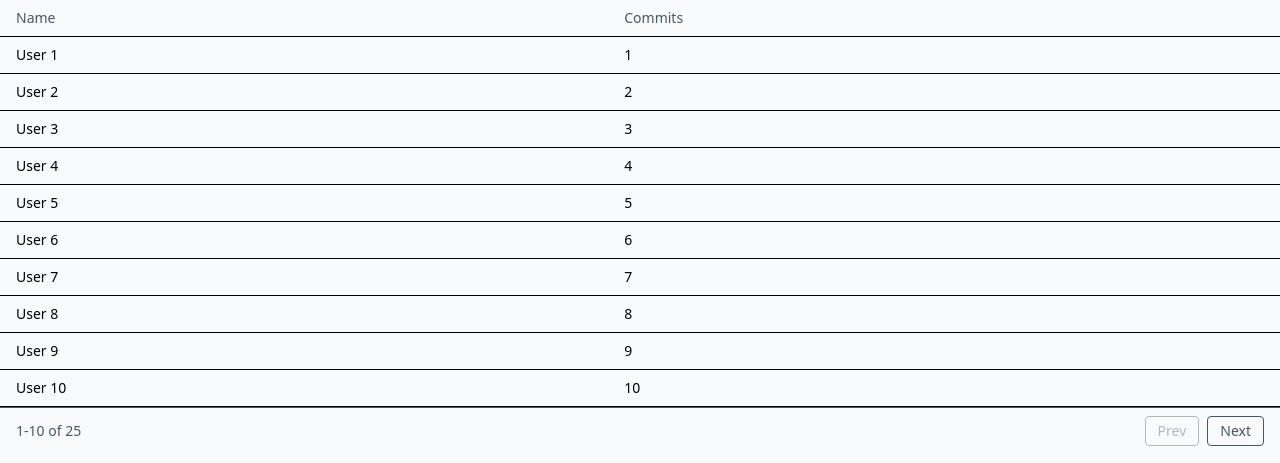
it: DataTable › pagination › navigates to previous page
Click the button "Next": (1236, 431) [1207,416,1264,446]
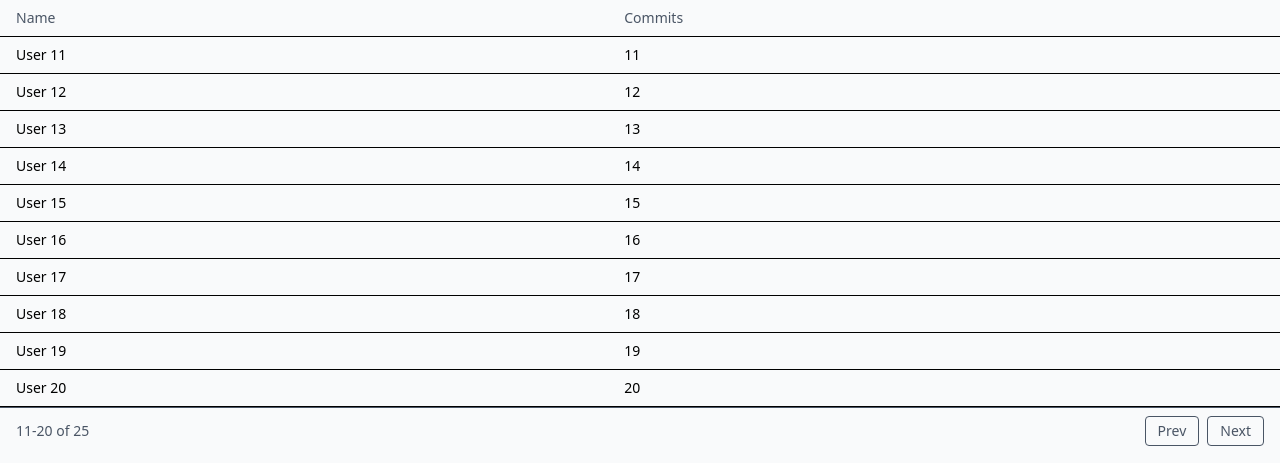
Click the button "Prev": (1172, 431) [1145,416,1199,446]
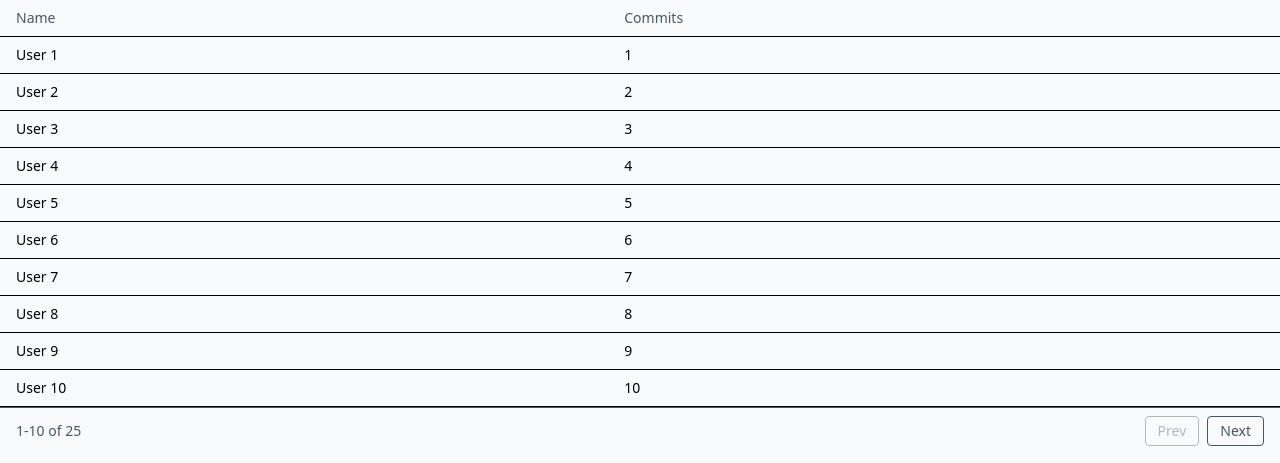
Expected: the text "1-10 of 25" is shown, [16,421,81,441]
